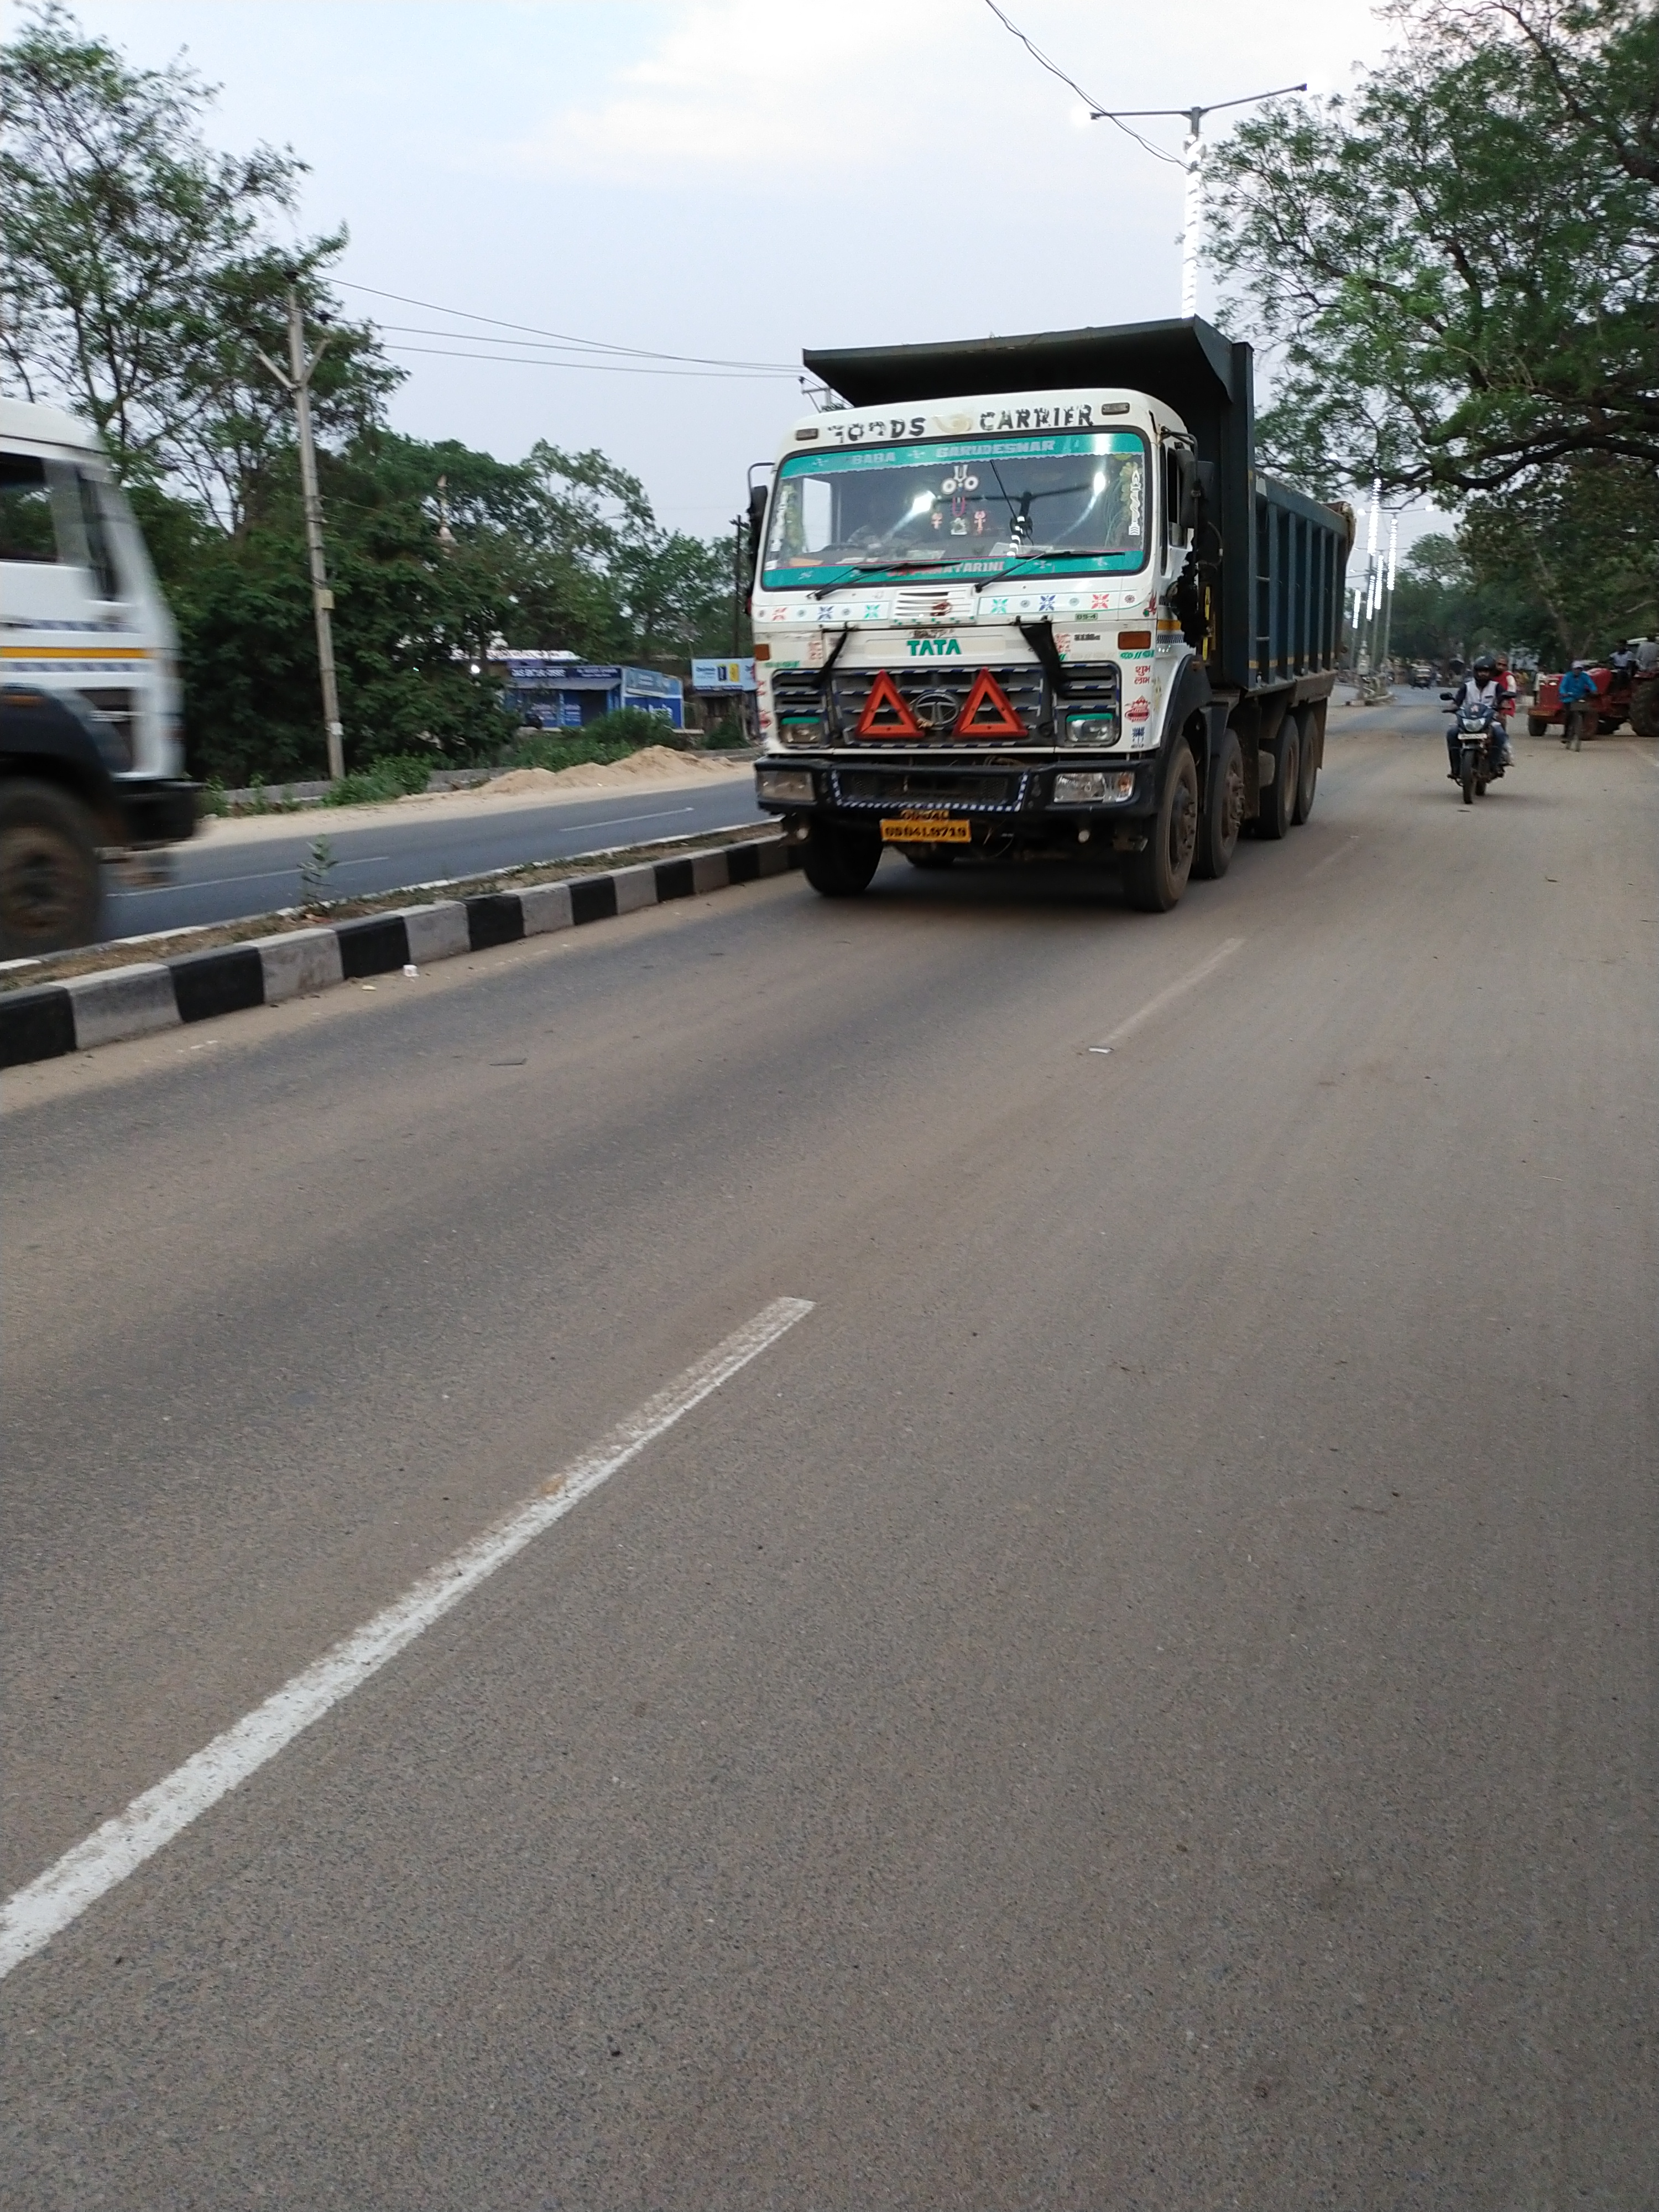tractor: (1527, 632, 1659, 738)
truck: (742, 310, 1358, 918), (0, 392, 211, 965)
